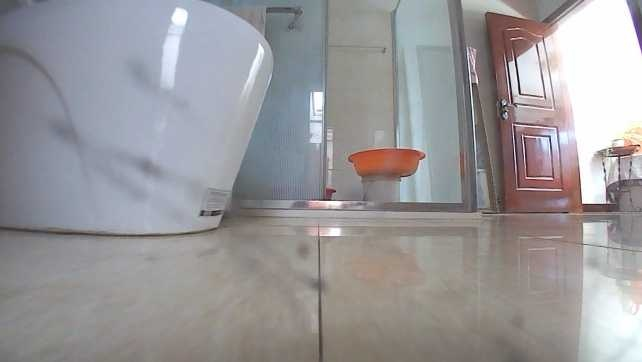door_anno: (484, 11, 583, 215)
toilet: (0, 0, 280, 239)
